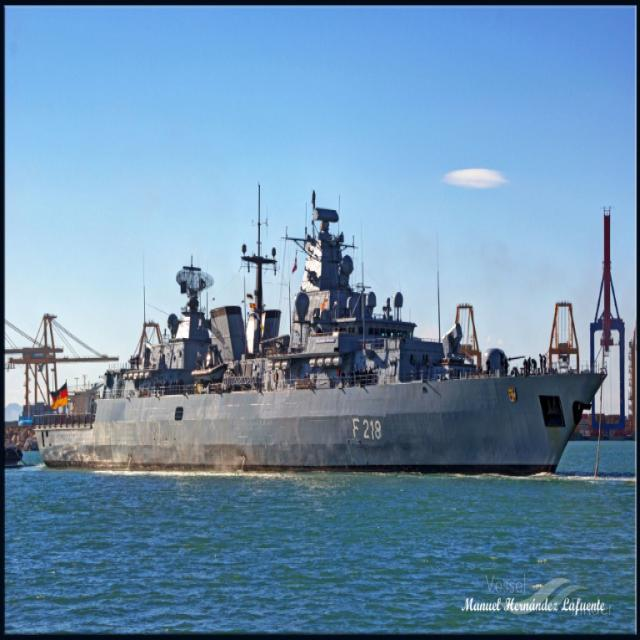OCR: (352, 406, 386, 448)
